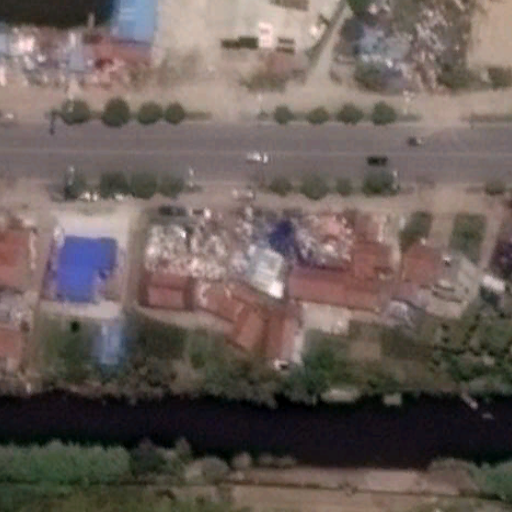msw: (144, 210, 355, 305), (366, 6, 448, 88), (11, 31, 122, 90)
